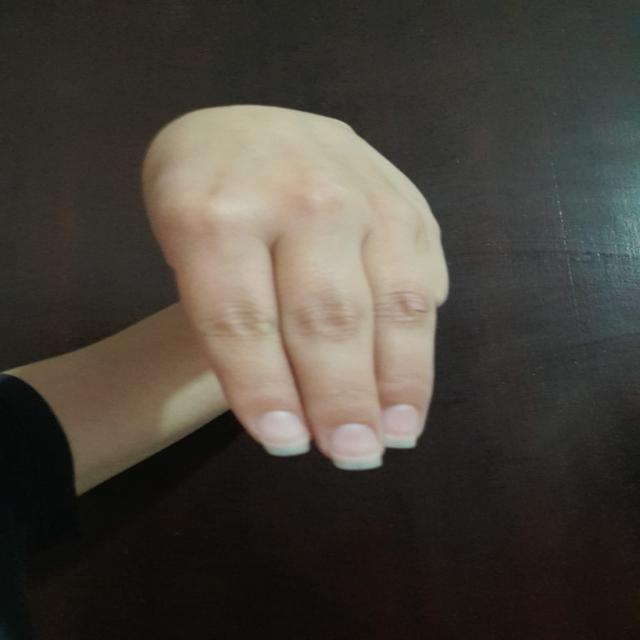M: (117, 104, 470, 480)
